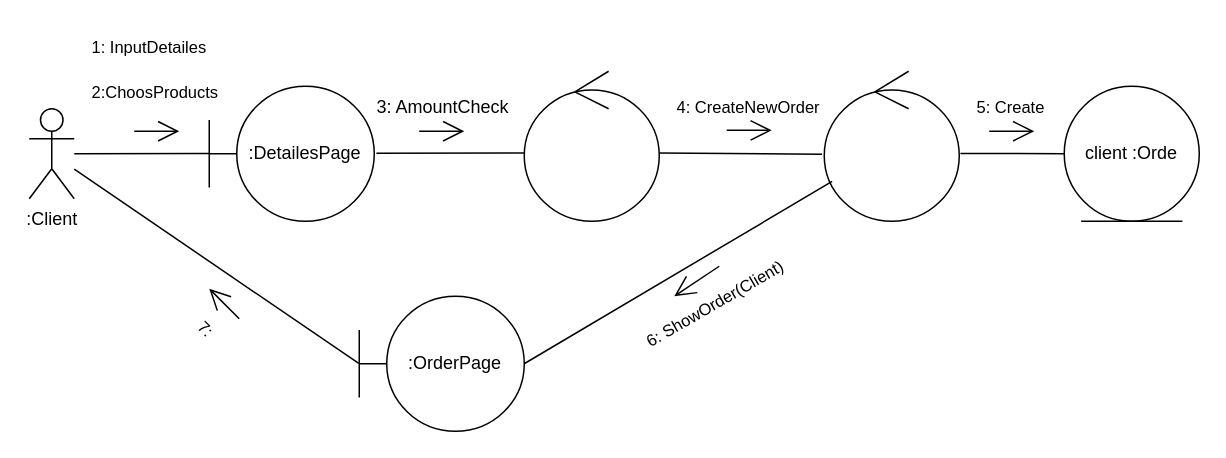
The diagram is 1226 pixels wide and 458 high, and some of its shapes have lost their labels. The box of each missing label's shape, as (x1, y1, x2, y2) in pixels:
:InStockChecker: (523, 70, 659, 221)
:OrderController: (823, 70, 959, 221)
